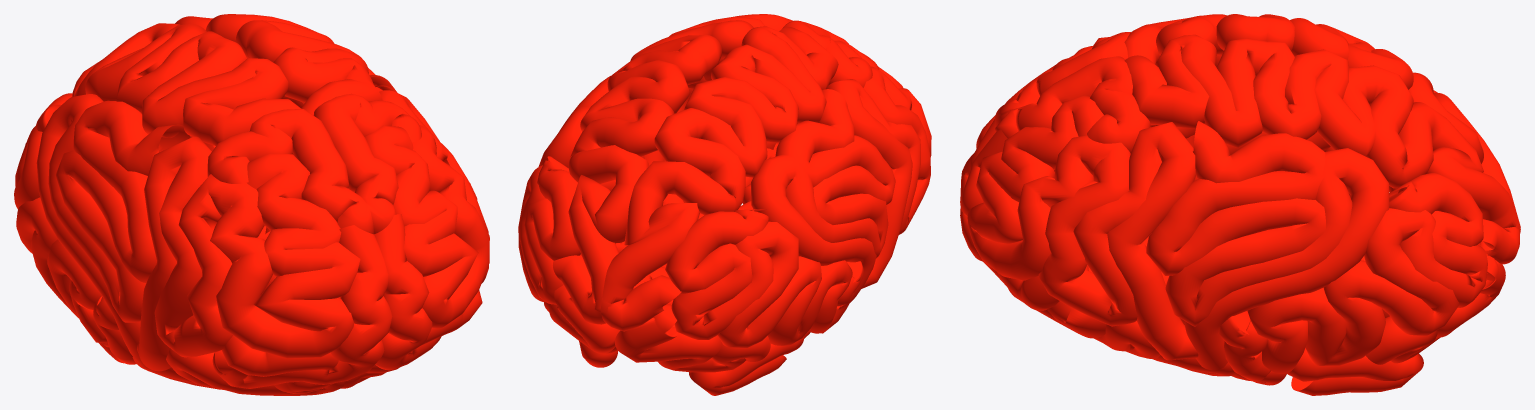
Rendered from brain.glb.
3 views of the same model, side by side, from view 1: azimuth 30°, elevation 25°; view 2: azimuth 150°, elevation 25°; view 3: azimuth 270°, elevation 25° (orthographic). The views are drawn at different scales.
Parts seen in each view (by area): view 1: brain; view 2: brain; view 3: brain.
Part boxes in pixels (x1=…): brain: x1=14, y1=14, x2=489, y2=395; brain: x1=518, y1=14, x2=931, y2=395; brain: x1=960, y1=14, x2=1520, y2=395.
Bounding box in the file's own units: 2.15 × 2.17 × 3.3.
